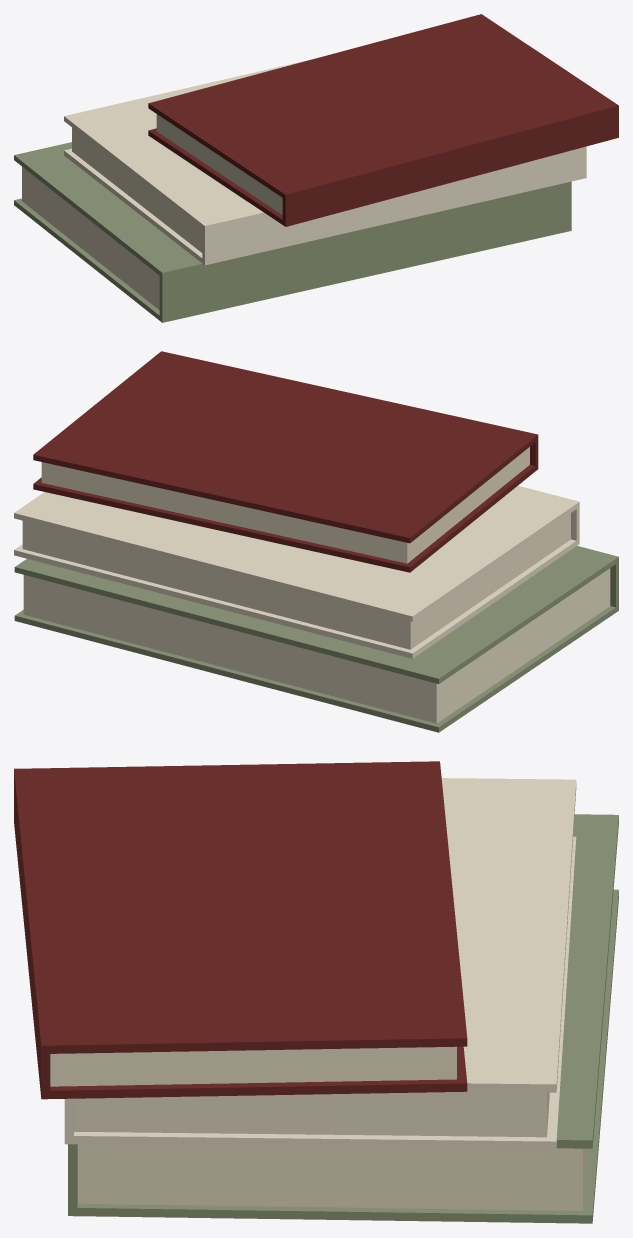
3 views of the same model, one above another, from view 1: azimuth 30°, elevation 25°; view 2: azimuth 150°, elevation 25°; view 3: azimuth 270°, elevation 25° (orthographic). The views are drawn at different scales.
Visible parts, largest first — view 1: book.002, book, book.001; view 2: book.002, book.001, book; view 3: book.002, book.001, book.
Boxes of the visible parts, x1,y1,x2,y2 form: book.002: (148,14,618,226); book: (14,142,571,322); book.001: (64,59,586,265); book.002: (33,351,538,572); book.001: (14,485,579,658); book: (14,546,618,732); book.002: (14,761,467,1099); book.001: (64,778,576,1149); book: (68,814,618,1223).
Bounding box in the file's own units: 0.2578 × 0.068 × 0.1845.
